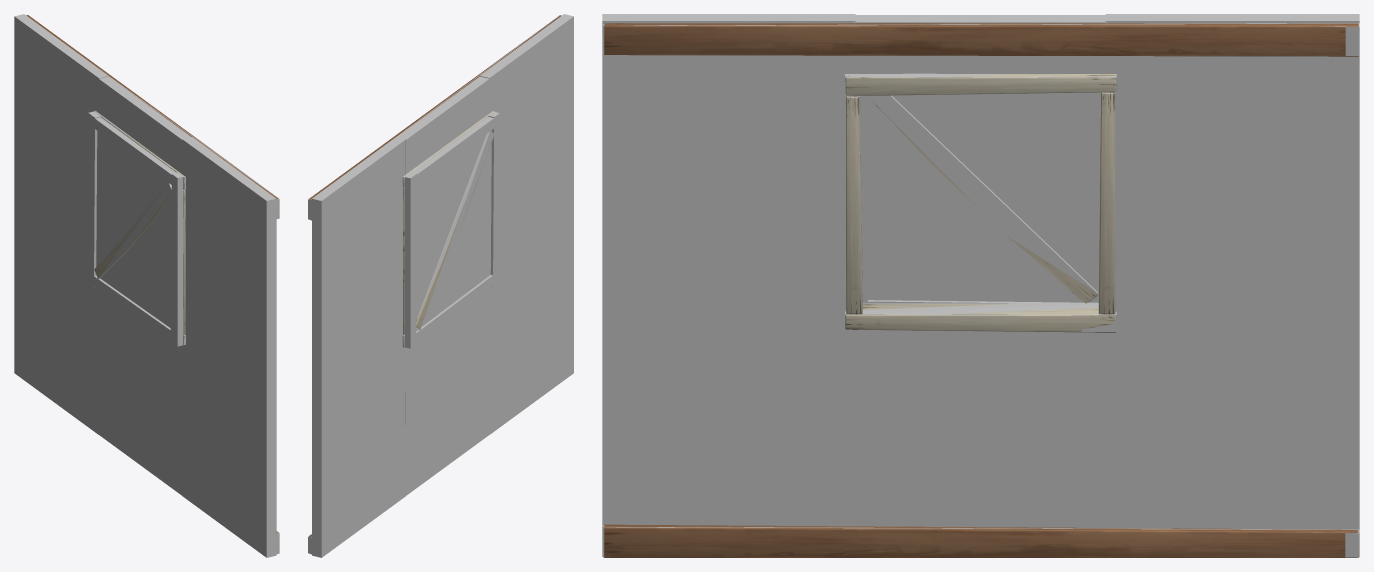
Rendered from SM_Hangar01WW_4.fbx.
3 renders of one model, left to right at view 1: azimuth 30°, elevation 25°; view 2: azimuth 150°, elevation 25°; view 3: azimuth 270°, elevation 25°, orthographic. The views are drawn at different scales.
Parts seen in each view (by area): view 1: SM_Hangar01WW_4_ConvexHulls, SM_Hangar01WW_4; view 2: SM_Hangar01WW_4_ConvexHulls, SM_Hangar01WW_4; view 3: SM_Hangar01WW_4_ConvexHulls, SM_Hangar01WW_4.
Boxes of the visible parts, x1,y1,x2,y2 form: SM_Hangar01WW_4_ConvexHulls: (14, 14, 279, 557); SM_Hangar01WW_4: (26, 15, 278, 533); SM_Hangar01WW_4_ConvexHulls: (308, 14, 573, 557); SM_Hangar01WW_4: (308, 15, 561, 536); SM_Hangar01WW_4_ConvexHulls: (602, 14, 1359, 557); SM_Hangar01WW_4: (604, 23, 1358, 557).
Bounding box in the file's own units: 22.96 × 451 × 352.
Materials: 4 (3 with a texture image).
